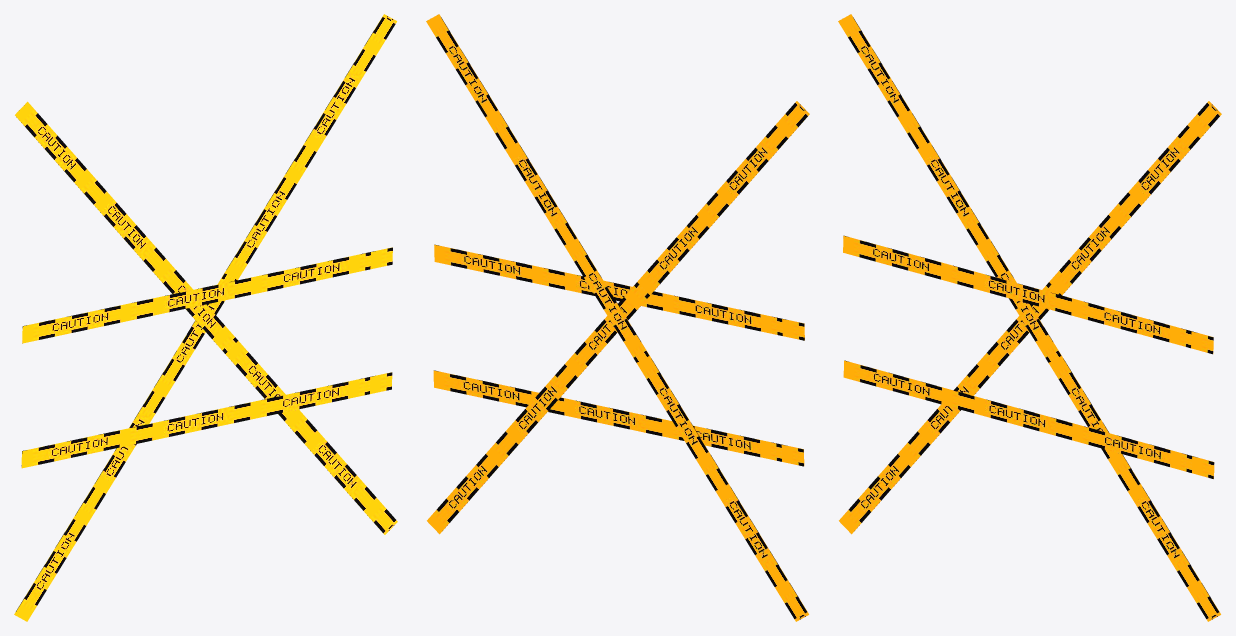
File: caution_tape.glb
The picture shows the model from 3 angles, left to right: view 1: azimuth 30°, elevation 25°; view 2: azimuth 150°, elevation 25°; view 3: azimuth 330°, elevation 25°; orthographic projection.
Visible parts, largest first — view 1: Caution tape; view 2: Caution tape; view 3: Caution tape.
Boxes of the visible parts, x1=… form: Caution tape: x1=14, y1=14, x2=397, y2=621; Caution tape: x1=426, y1=14, x2=809, y2=621; Caution tape: x1=838, y1=14, x2=1221, y2=621.
Bounding box in the file's own units: 1.76 × 2.29 × 0.017.
1 material, 1 textured.
